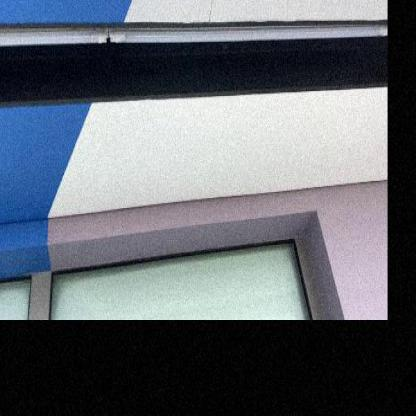light_off: (0, 0, 388, 76)
